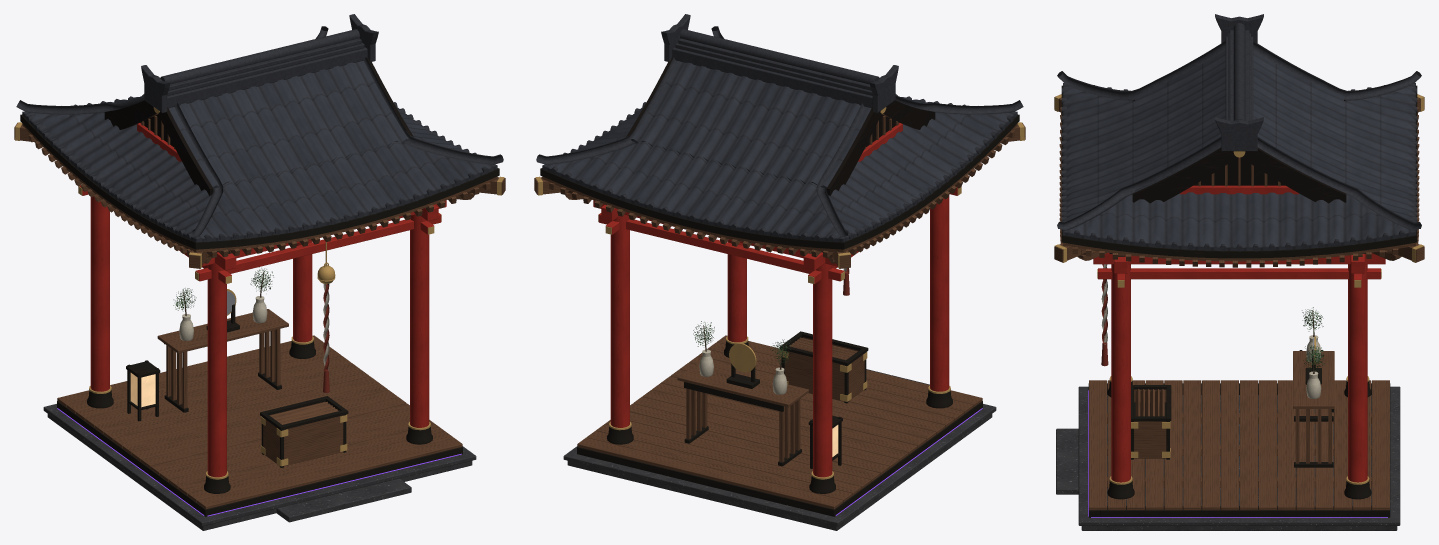
The model's file is japanese_shrine.glb.
The picture shows the model from 3 angles, left to right: view 1: azimuth 30°, elevation 25°; view 2: azimuth 150°, elevation 25°; view 3: azimuth 270°, elevation 25°; orthographic projection.
Parts seen in each view (by area): view 1: roof_f_roof_tile_0, roof_r_roof_tile_0, plinth_stone_granite_1, pillar_fr_lacquer_vermilion_0, pillar_fl_lacquer_vermilion_0, pillar_br_lacquer_vermilion_0, deck_wood_walnut_15, ridge_roof_ridge_0, roof_f_lacquer_black_2, deck_wood_walnut_6, tie_beams_lacquer_vermilion_6, deck_wood_walnut_5 (+37 smaller); view 2: roof_b_roof_tile_0, roof_r_roof_tile_0, plinth_stone_granite_1, pillar_br_lacquer_vermilion_0, pillar_bl_lacquer_vermilion_0, pillar_fr_lacquer_vermilion_0, deck_wood_walnut_0, ridge_roof_ridge_0, roof_b_lacquer_black_2, tie_beams_lacquer_vermilion_0, deck_wood_walnut_1, plinth_stone_granite_0 (+37 smaller); view 3: roof_f_roof_tile_0, roof_b_roof_tile_0, roof_l_roof_tile_0, plinth_stone_granite_1, pillar_bl_lacquer_vermilion_0, pillar_fl_lacquer_vermilion_0, roof_l_lacquer_black_matte_18, tie_beams_lacquer_vermilion_7, roof_l_lacquer_black_2, deck_wood_walnut_6, deck_wood_walnut_9, deck_wood_walnut_10 (+36 smaller).
Part boxes in pixels (x1=…): roof_f_roof_tile_0: x1=168, y1=60, x2=497, y2=242; roof_r_roof_tile_0: x1=22, y1=111, x2=211, y2=241; plinth_stone_granite_1: x1=43, y1=404, x2=476, y2=526; pillar_fr_lacquer_vermilion_0: x1=207, y1=258, x2=226, y2=477; pillar_fl_lacquer_vermilion_0: x1=410, y1=214, x2=429, y2=427; pillar_br_lacquer_vermilion_0: x1=90, y1=196, x2=109, y2=391; deck_wood_walnut_15: x1=197, y1=437, x2=462, y2=509; ridge_roof_ridge_0: x1=167, y1=47, x2=367, y2=108; roof_f_lacquer_black_2: x1=195, y1=168, x2=499, y2=249; deck_wood_walnut_6: x1=113, y1=376, x2=378, y2=447; tie_beams_lacquer_vermilion_6: x1=195, y1=213, x2=441, y2=281; deck_wood_walnut_5: x1=104, y1=369, x2=369, y2=441; roof_b_roof_tile_0: x1=542, y1=60, x2=871, y2=242; roof_r_roof_tile_0: x1=828, y1=111, x2=1017, y2=241; plinth_stone_granite_1: x1=563, y1=404, x2=996, y2=526; pillar_br_lacquer_vermilion_0: x1=813, y1=258, x2=832, y2=477; pillar_bl_lacquer_vermilion_0: x1=610, y1=214, x2=629, y2=427; pillar_fr_lacquer_vermilion_0: x1=930, y1=195, x2=949, y2=391; deck_wood_walnut_0: x1=577, y1=437, x2=842, y2=509; ridge_roof_ridge_0: x1=672, y1=47, x2=872, y2=108; roof_b_lacquer_black_2: x1=540, y1=168, x2=844, y2=249; tie_beams_lacquer_vermilion_0: x1=598, y1=213, x2=844, y2=281; deck_wood_walnut_1: x1=586, y1=430, x2=852, y2=502; plinth_stone_granite_0: x1=567, y1=414, x2=992, y2=530; roof_f_roof_tile_0: x1=1063, y1=50, x2=1225, y2=231; roof_b_roof_tile_0: x1=1253, y1=50, x2=1415, y2=231; roof_l_roof_tile_0: x1=1063, y1=192, x2=1415, y2=250; plinth_stone_granite_1: x1=1078, y1=386, x2=1400, y2=525; pillar_bl_lacquer_vermilion_0: x1=1348, y1=255, x2=1367, y2=482; pillar_fl_lacquer_vermilion_0: x1=1111, y1=261, x2=1130, y2=482; roof_l_lacquer_black_matte_18: x1=1132, y1=147, x2=1346, y2=203; tie_beams_lacquer_vermilion_7: x1=1098, y1=268, x2=1380, y2=279; roof_l_lacquer_black_2: x1=1063, y1=235, x2=1415, y2=258; deck_wood_walnut_6: x1=1258, y1=380, x2=1276, y2=510; deck_wood_walnut_9: x1=1202, y1=380, x2=1220, y2=510; deck_wood_walnut_10: x1=1183, y1=380, x2=1201, y2=510.
Size of what is drawn, in the model's own units: 3.19 by 3.78 by 3.19.
21 materials, 20 textured.
